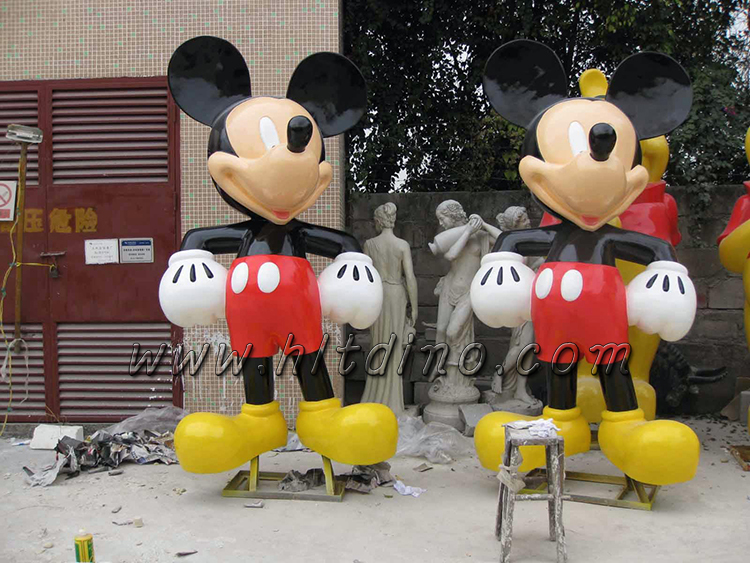Mickey: (160, 35, 373, 229), (482, 38, 695, 232)
